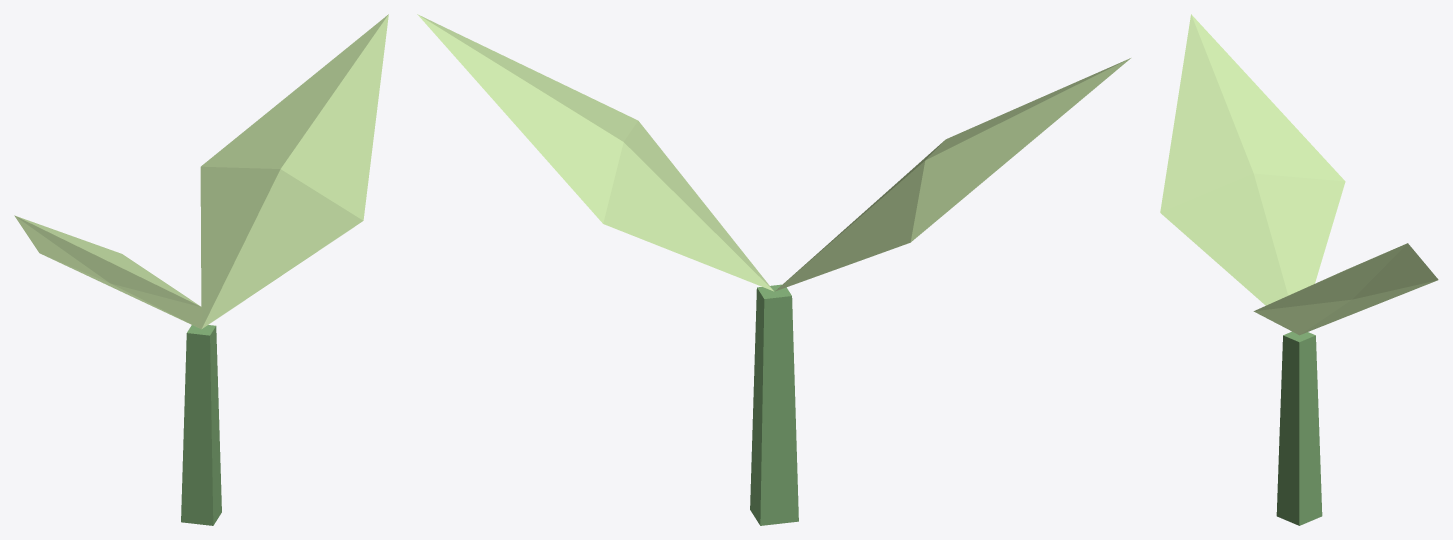
File: crop_carrot_s0.glb
3 renders of one model, left to right at view 1: azimuth 30°, elevation 25°; view 2: azimuth 150°, elevation 25°; view 3: azimuth 270°, elevation 25°, orthographic. The views are drawn at different scales.
Visible parts, largest first — view 1: crop_carrot_s0; view 2: crop_carrot_s0; view 3: crop_carrot_s0.
Boxes of the visible parts, x1,y1,x2,y2 form: crop_carrot_s0: (14,14,388,525); crop_carrot_s0: (417,14,1130,525); crop_carrot_s0: (1160,14,1438,525).
Bounding box in the file's own units: 0.19 × 0.15 × 0.0977.
